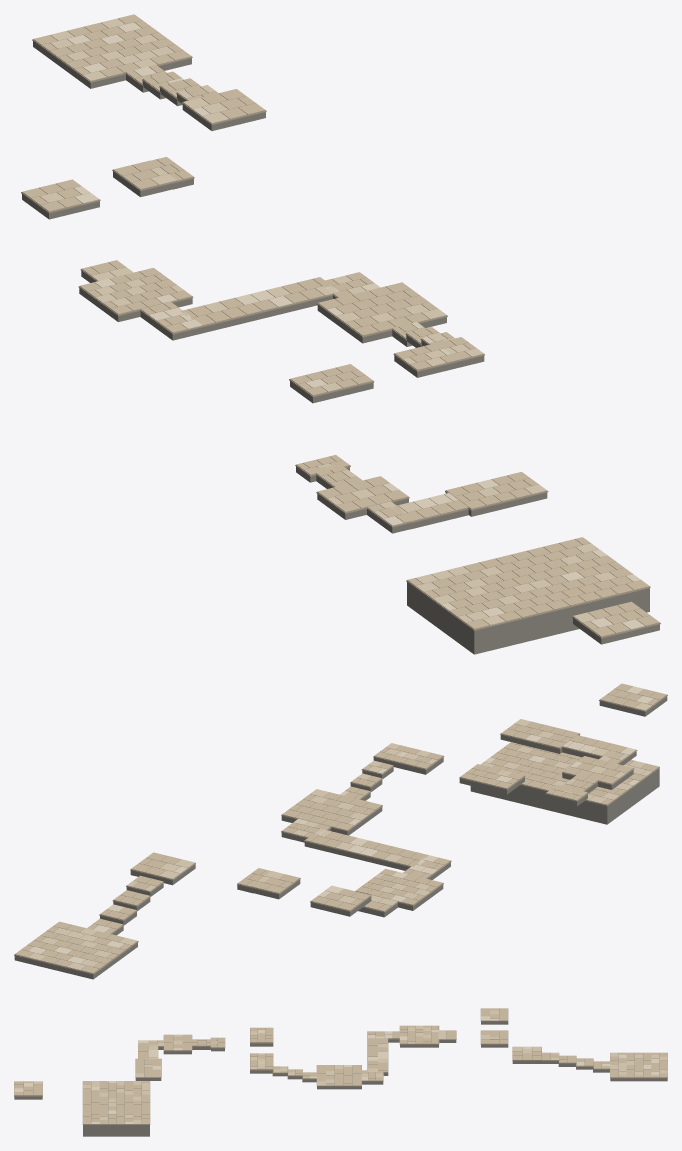
Rendered from EastPavedDecks.glb.
3 renders of one model, top to bottom at view 1: azimuth 30°, elevation 25°; view 2: azimuth 150°, elevation 25°; view 3: azimuth 270°, elevation 25°, orthographic. The views are drawn at different scales.
Parts seen in each view (by area): view 1: EastPavedDecks; view 2: EastPavedDecks; view 3: EastPavedDecks.
Part boxes in pixels (bbox=[...]): EastPavedDecks: bbox=[21, 14, 660, 654]; EastPavedDecks: bbox=[14, 683, 667, 979]; EastPavedDecks: bbox=[14, 1008, 667, 1136].
Size of the model in its own units: 17.39 by 9.95 by 67.03.
